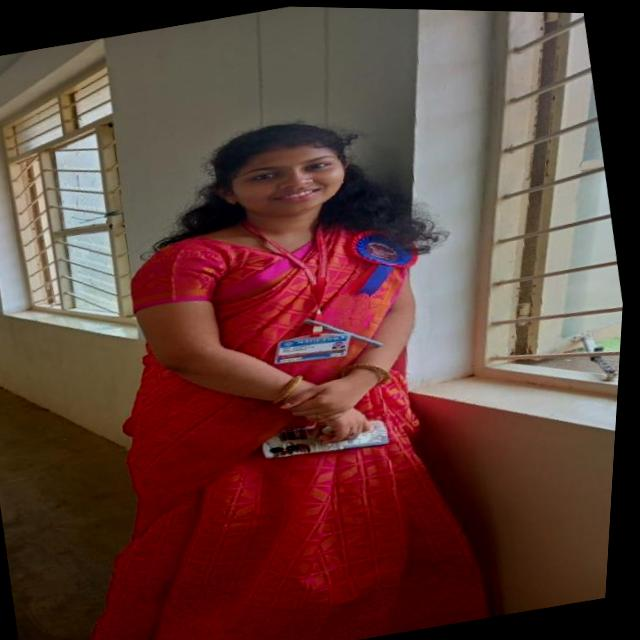id_card: (242, 200, 371, 376)
